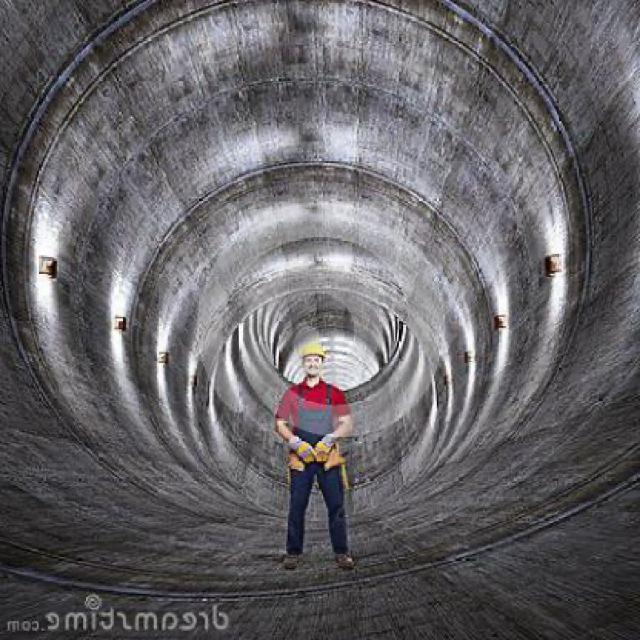helmet: (302, 338, 326, 382)
